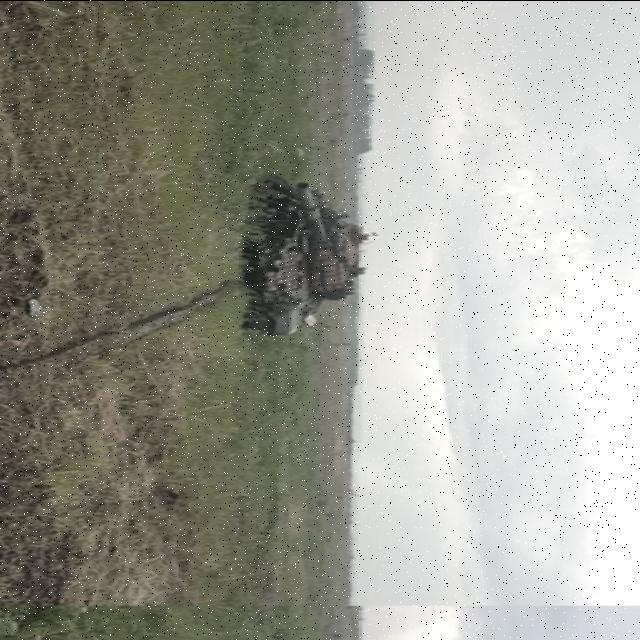TANK: (224, 176, 380, 338)
